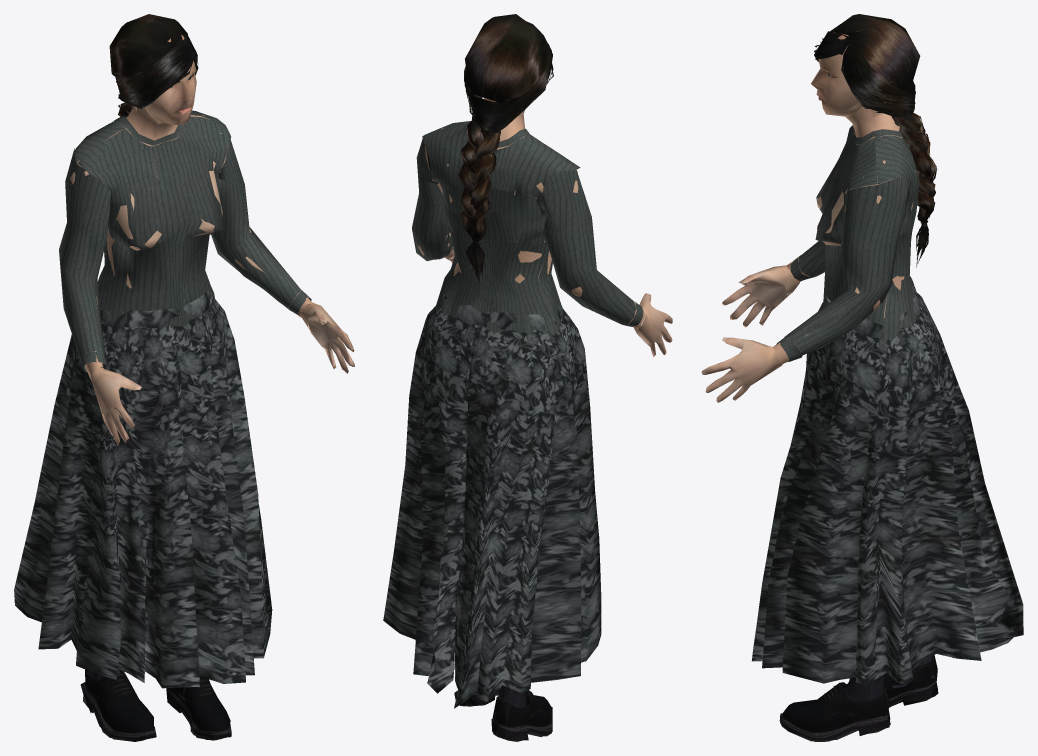
The picture shows the model from 3 angles, left to right: view 1: azimuth 30°, elevation 25°; view 2: azimuth 150°, elevation 25°; view 3: azimuth 270°, elevation 25°; orthographic projection.
Visible parts, largest first — view 1: Modell; view 2: Modell; view 3: Modell.
Boxes of the visible parts, left/top/right/bottom form: Modell: left=14, top=14, right=354, bottom=741; Modell: left=383, top=14, right=672, bottom=741; Modell: left=701, top=14, right=1023, bottom=741.
Bounding box in the file's own units: 0.5472 × 1.66 × 0.6834.
Materials: 7 (7 with a texture image).
